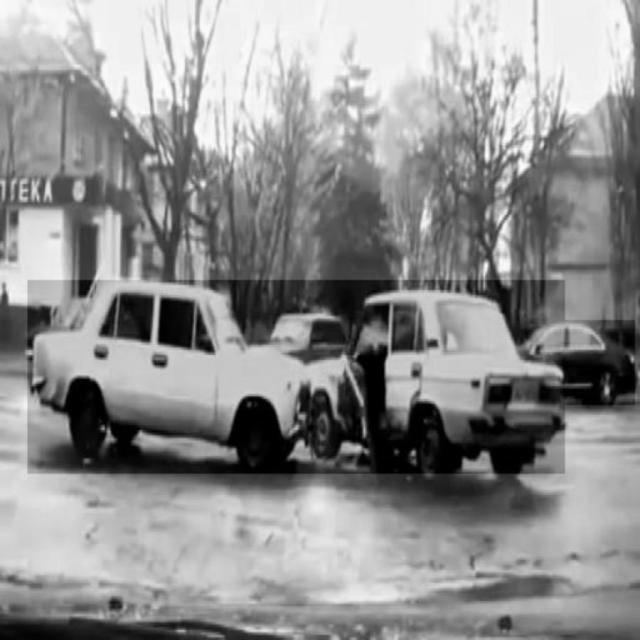accident: (28, 280, 565, 474)
vehicle: (523, 321, 635, 405)
